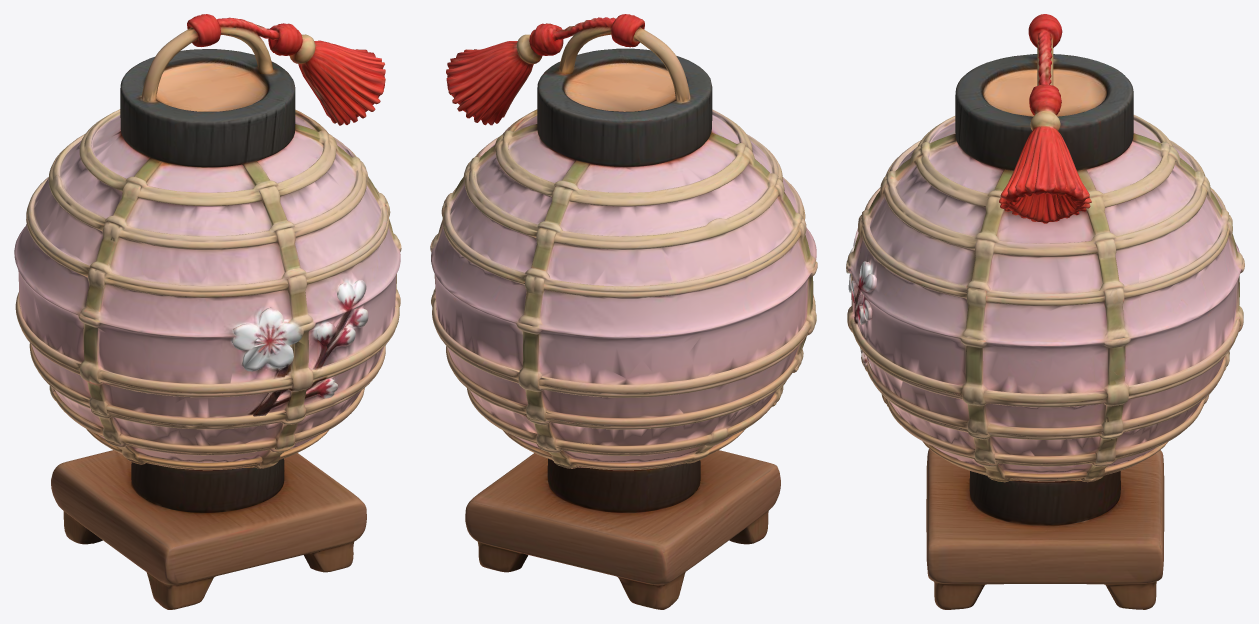
Rendered from lantern.glb.
3 views of the same model, side by side, from view 1: azimuth 30°, elevation 25°; view 2: azimuth 150°, elevation 25°; view 3: azimuth 270°, elevation 25° (orthographic).
Parts seen in each view (by area): view 1: node_0; view 2: node_0; view 3: node_0.
Boxes of the visible parts, <box> form: node_0: <box>14,14,401,609</box>; node_0: <box>430,14,817,609</box>; node_0: <box>846,14,1244,609</box>.
Bounding box in the file's own units: 0.708 × 1.08 × 0.7156.
1 material, 1 textured.
